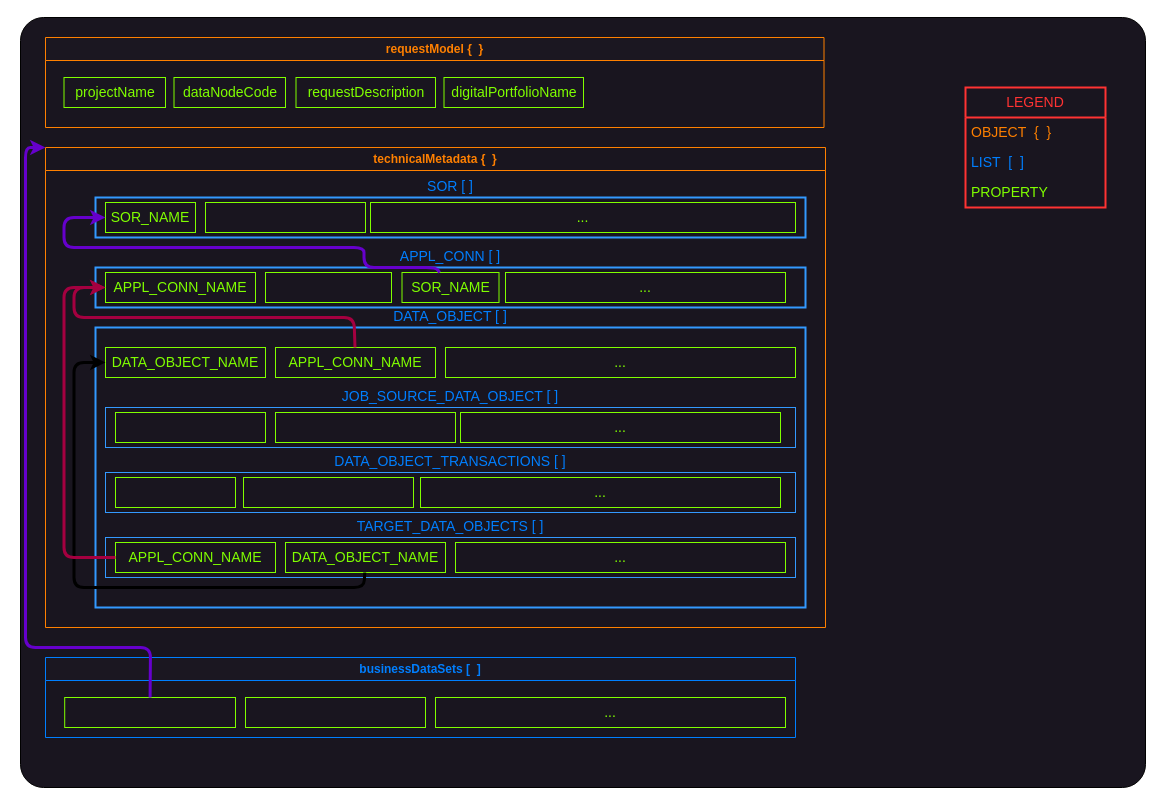
The diagram is 1163 pixels wide and 805 high, and some of its shapes have lost their labels. Here are the shapes that lost their labels. From the top down, the centre of each, then its label:
(285,217): SOR_DESCRIPTION
(328,287): DATA_NODE_CD
(190,427): JOB_GROUP_NAME
(365,427): TRANSACTION_TYPE_CD
(175,492): CDC_CHG_VER
(328,492): CHG_KEY_LATEST_VAL
(150,712): requestDataObjectName
(335,712): dataObjectBusinessName
